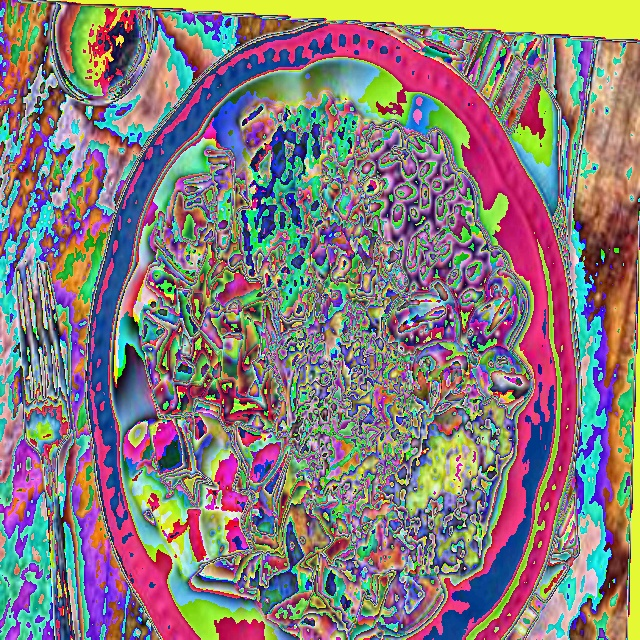background: (127, 90, 533, 639), (57, 5, 142, 93)
